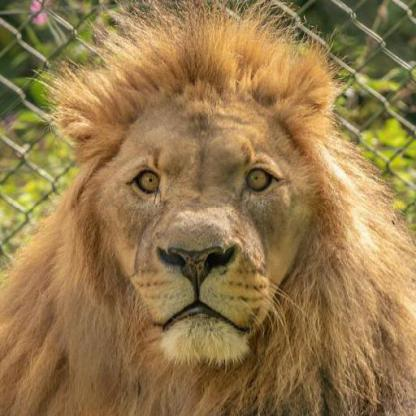lion: (80, 64, 360, 367)
